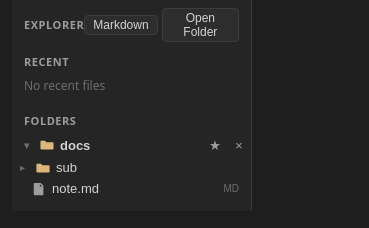
Scenario: Explorer context menu (plan 03 task 3.6, issue #44) › right-clicking the Folder section shows New file / New folder / Collapse all
Right-click the element showing "Folders ▾ docs ★ × ▸ sub note.md md" at (132, 154), box [12,108,251,199]
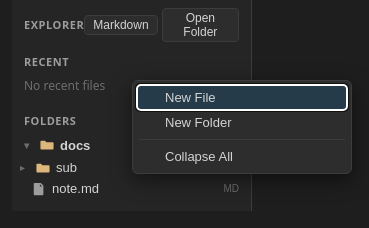
Expected: the menu is shown, [132,80,352,174]
Expected: the menu item with aria-label "New File" is shown, [137,85,347,110]
Expected: the menu item with aria-label "New Folder" is shown, [137,110,347,135]
